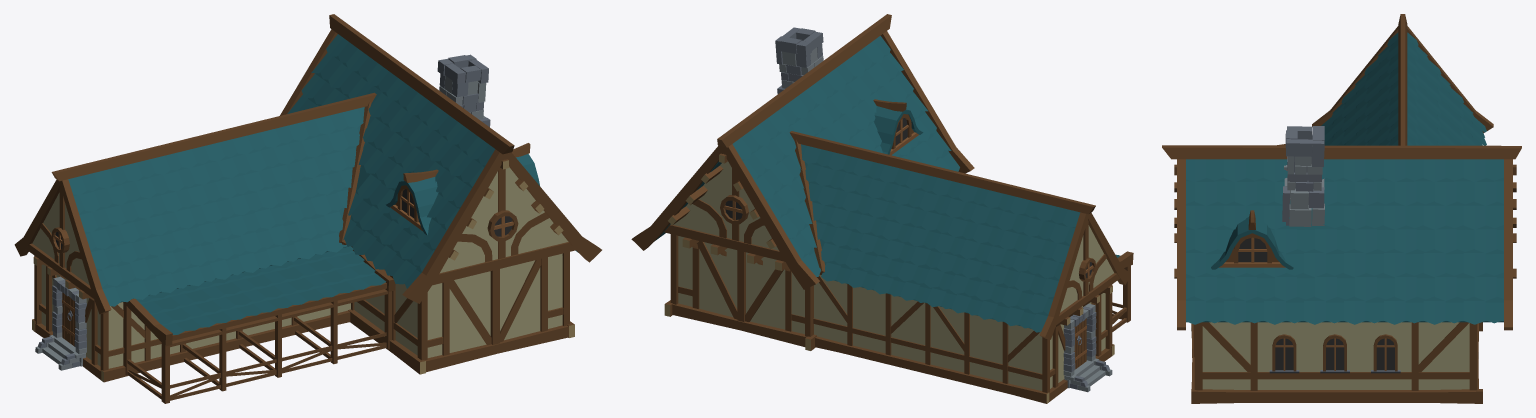
Rendered from Stable.gltf.
The picture shows the model from 3 angles, left to right: view 1: azimuth 30°, elevation 25°; view 2: azimuth 150°, elevation 25°; view 3: azimuth 270°, elevation 25°; orthographic projection. The views are drawn at different scales.
Visible parts, largest first — view 1: Stable_Cube.195; view 2: Stable_Cube.195; view 3: Stable_Cube.195.
Boxes of the visible parts, box(x1,y1,x2,y2) form: Stable_Cube.195: box(14, 14, 601, 403); Stable_Cube.195: box(631, 14, 1133, 403); Stable_Cube.195: box(1162, 14, 1521, 403).
Size of the model in its own units: 4.7 by 2.49 by 3.33.
